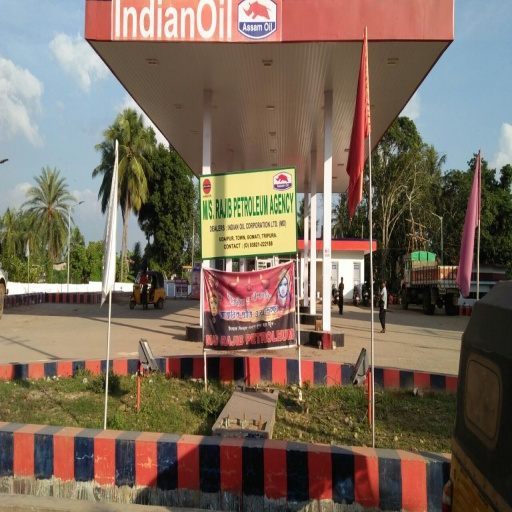roof: (85, 1, 432, 191)
